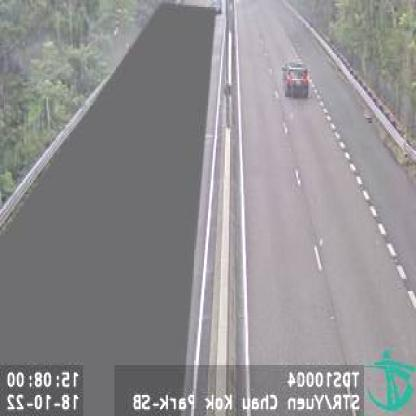Car: (283, 58, 310, 100)
